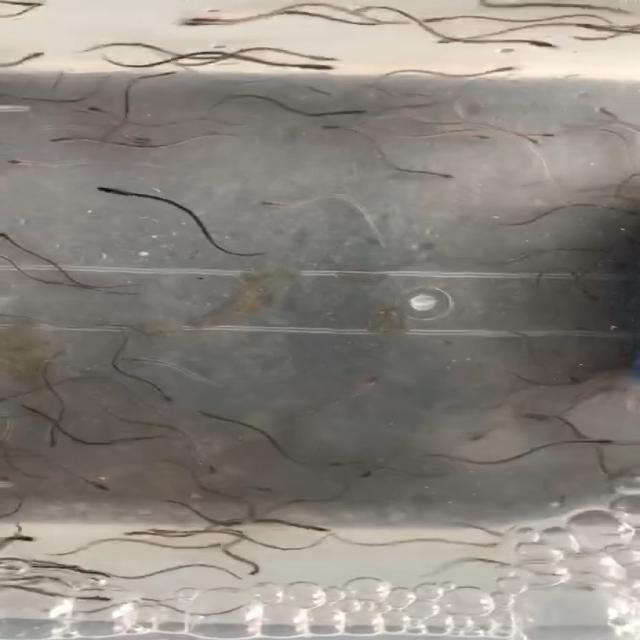active_glass_eel: (428, 8, 486, 25), (77, 602, 116, 624), (121, 128, 160, 150), (324, 101, 374, 118), (139, 423, 174, 447), (538, 562, 580, 582), (0, 0, 49, 17), (0, 394, 46, 411), (309, 519, 359, 534), (144, 387, 178, 409), (73, 567, 122, 582), (95, 559, 131, 579), (324, 454, 368, 470), (172, 15, 225, 28), (80, 180, 128, 194), (126, 525, 174, 539), (0, 153, 40, 169), (559, 578, 599, 594), (36, 432, 68, 452), (181, 542, 234, 554), (599, 254, 634, 272), (299, 57, 334, 75), (192, 462, 228, 479), (247, 477, 278, 496), (78, 470, 104, 492), (187, 405, 214, 426), (534, 40, 574, 54), (360, 374, 386, 395), (252, 197, 286, 213), (13, 529, 47, 545), (236, 507, 272, 522), (548, 370, 581, 386), (470, 426, 503, 442), (463, 63, 498, 78), (431, 37, 474, 49), (590, 433, 620, 450), (39, 131, 75, 145), (313, 118, 340, 136), (148, 66, 175, 84), (428, 170, 462, 184), (241, 565, 275, 579), (609, 338, 640, 353), (476, 536, 509, 550), (0, 434, 20, 457), (87, 590, 119, 604), (523, 135, 558, 147), (80, 98, 106, 114), (575, 24, 608, 36), (114, 352, 145, 364), (14, 48, 46, 59), (0, 233, 22, 249), (613, 207, 640, 220), (316, 52, 345, 63)
